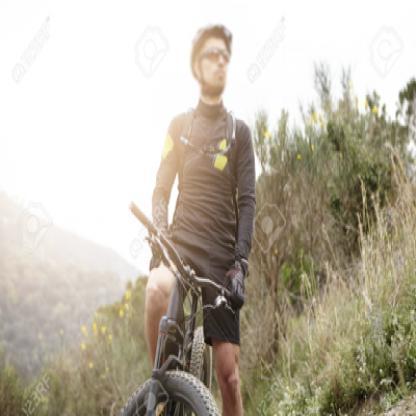Helmet: (186, 16, 236, 102)
